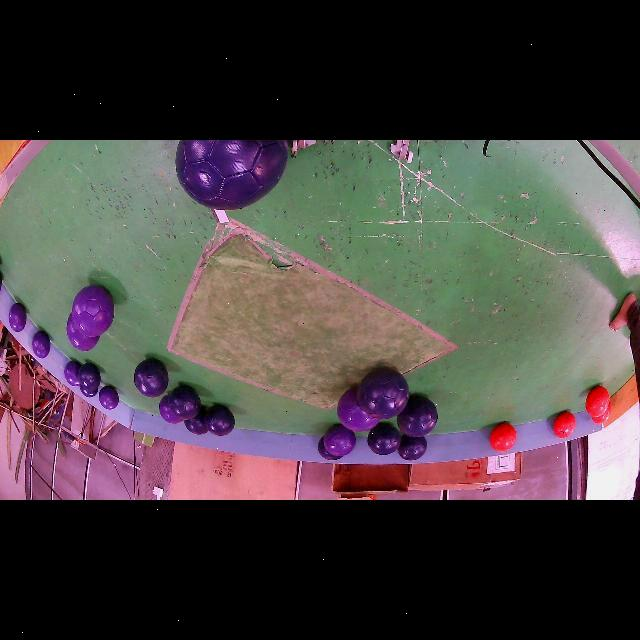B: (176, 140, 288, 210), (358, 368, 409, 419), (396, 396, 438, 438), (134, 359, 169, 398), (169, 385, 201, 420), (368, 422, 401, 455), (204, 405, 235, 436), (398, 436, 428, 460), (185, 408, 208, 435), (79, 363, 101, 390), (318, 438, 342, 460), (79, 384, 99, 398)
P: (71, 285, 114, 338), (338, 388, 379, 432), (66, 314, 100, 351), (324, 424, 356, 456), (159, 395, 182, 424), (32, 331, 50, 359), (99, 386, 119, 410), (9, 304, 26, 332), (64, 361, 81, 386)
R: (586, 386, 610, 418), (490, 424, 516, 451), (554, 412, 576, 439), (592, 403, 611, 424)
